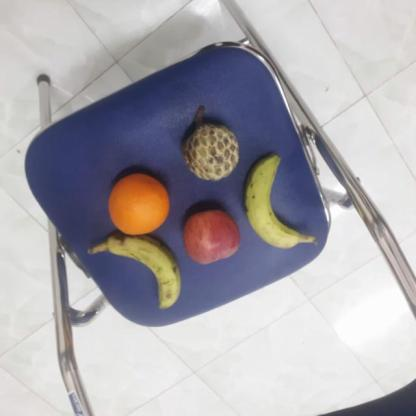annona: (181, 125, 242, 182)
apple: (179, 207, 241, 266)
banana: (241, 152, 309, 252), (102, 235, 182, 312)
orange: (105, 171, 168, 236)
